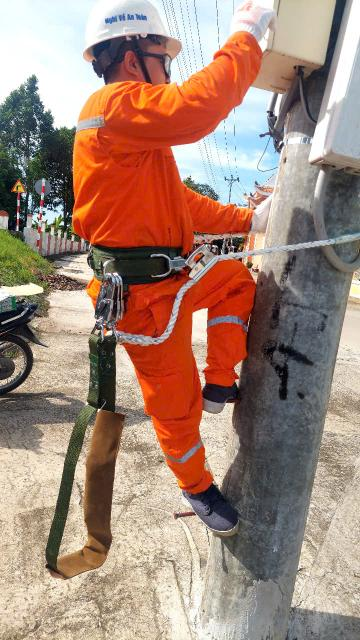gloves: (239, 179, 305, 248), (216, 3, 302, 53)
harness: (80, 215, 216, 289)
helmet: (77, 1, 182, 60)
shoes: (178, 464, 250, 542), (192, 358, 274, 424)
